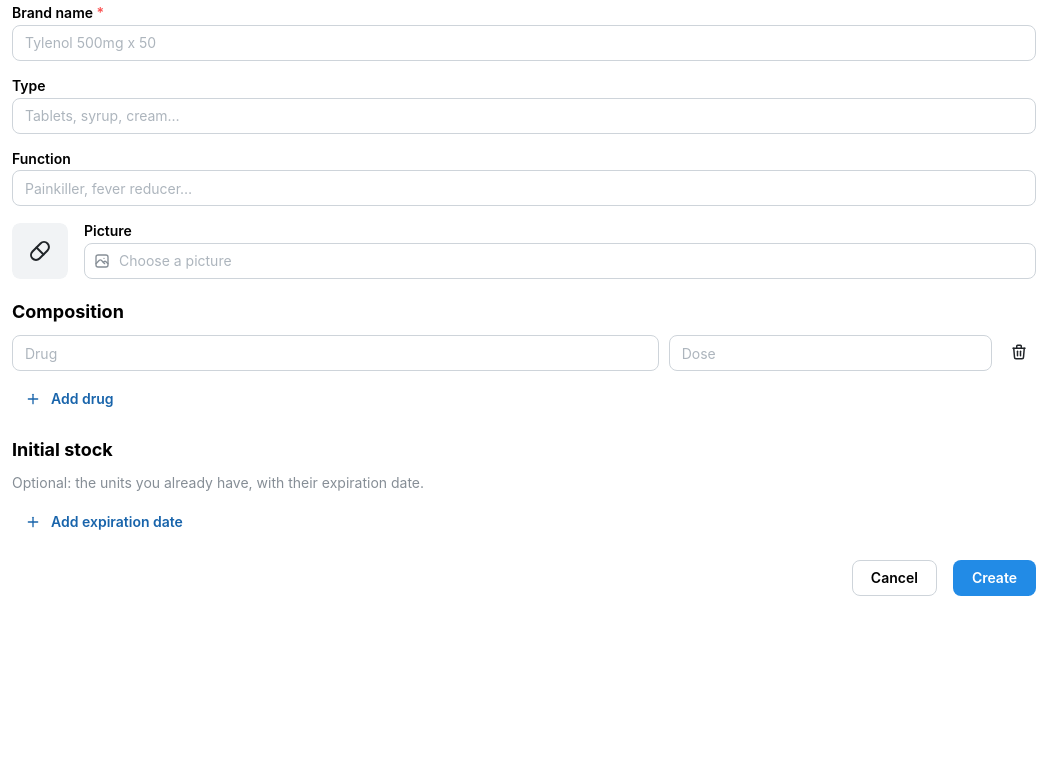
Test: MedicationForm › sends the initial stock, and needs a date for each row
Later steps or results of the test are not shown.
Type "Tafirol" into the field labelled "Brand name *" at (524, 43), box [12,25,1036,61]
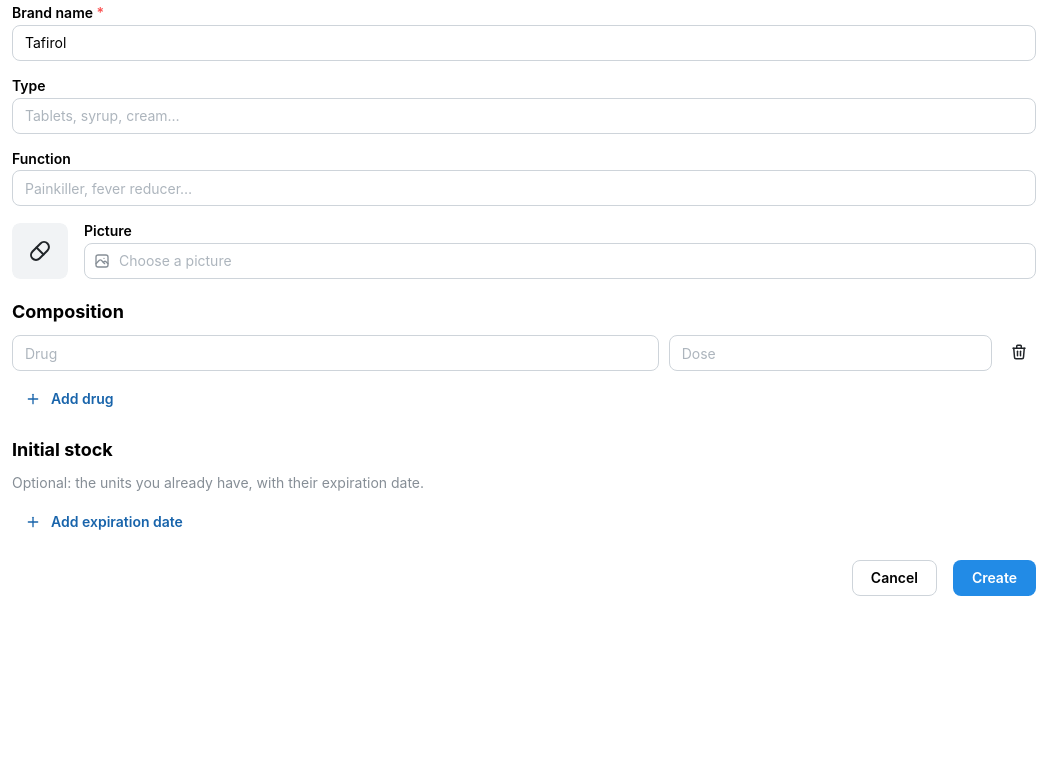
Click the button "Add expiration date" at (107, 522), box [12,504,202,540]
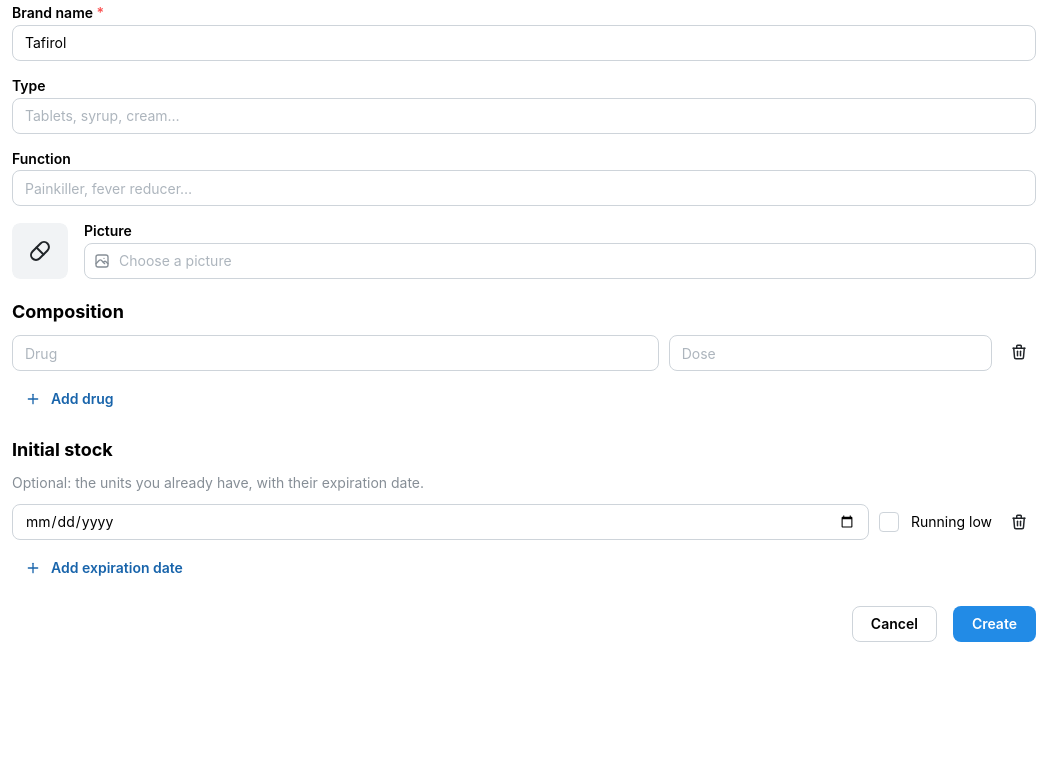
Click the button "Create" at (994, 624), box [953,606,1036,642]
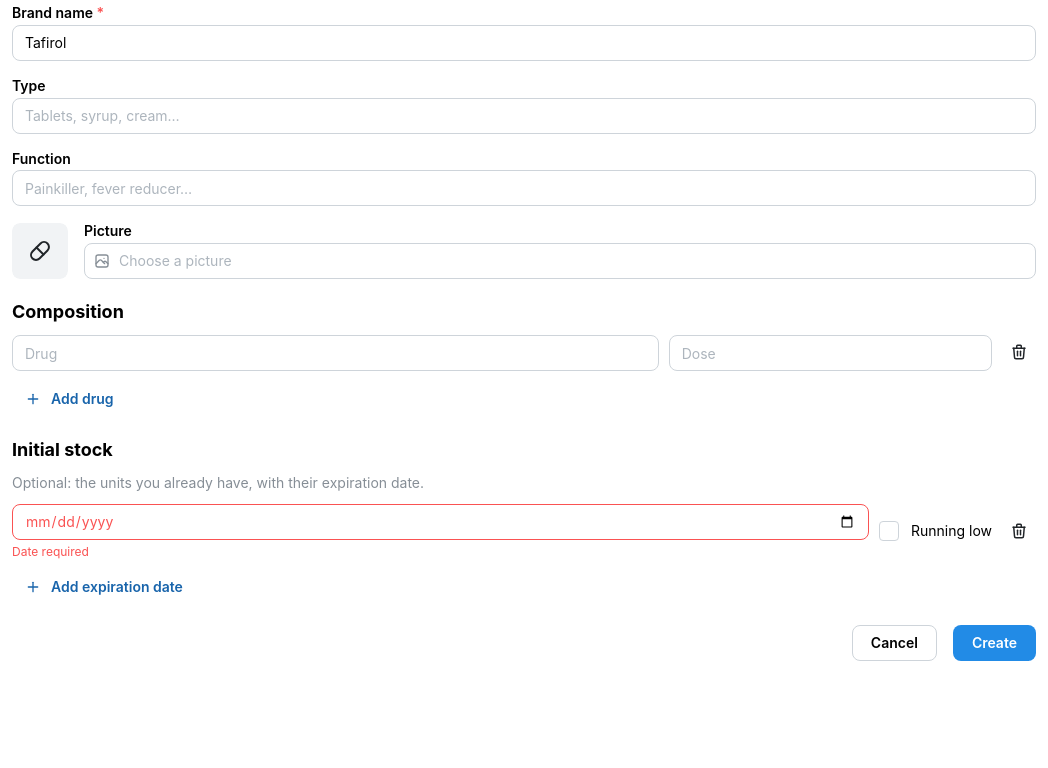
Check: the text "Date required" is shown, box [12,544,89,559]
